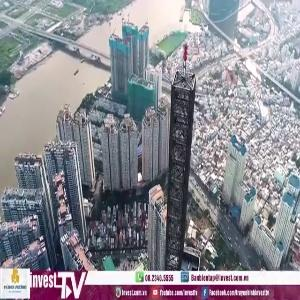drone: (168, 75, 231, 138)
